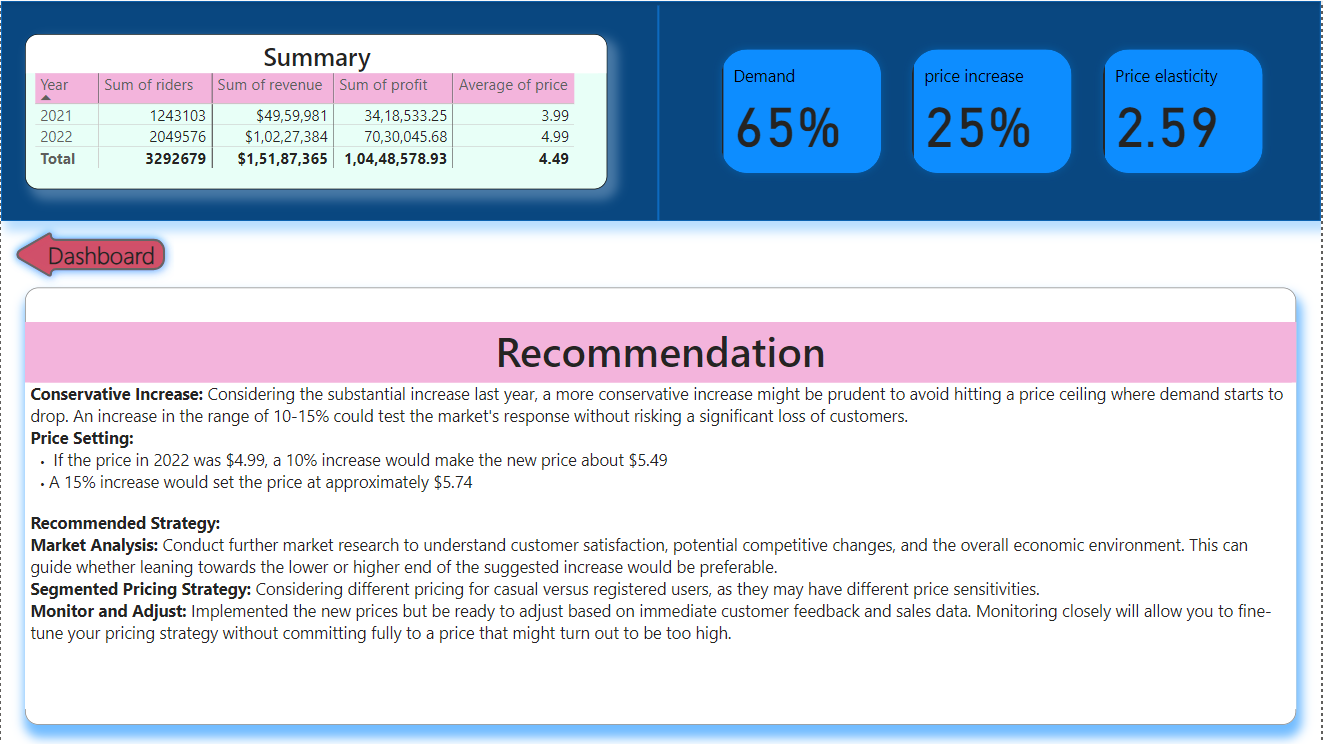

This screenshot's page, from the dashboard's own definition file:
{"tool":"powerbi","page":{"name":"Recommendation","canvas":[1280,720],"ordinal":1},"visuals":[{"type":"shape","box":[0,0,1279.8,213.6],"z":0},{"type":"pivotTable","title":"Summary","fields":{"Rows":["Query1.dteday.Variation.Date Hierarchy.Year"],"Values":["Sum(Query1.riders)","Sum(Query1.revenue)","Sum(Query1.profit)","Avg(Query1.price)"]},"box":[22.7,32.4,564.7,150.5],"z":1000},{"type":"cardVisual","fields":{"Data":["Query1.Demand","Query1.price increase","Query1.Price elasticity"]},"box":[682.8,30.7,559.8,152.1],"z":2000},{"type":"shape","box":[634.2,4.9,6.5,208.7],"z":3000},{"type":"shape","box":[22.7,278.3,1232.9,423.9],"z":4000},{"type":"textbox","title":"Recommendation","box":[22.7,310.7,1232.9,375.4],"z":5000},{"type":"pageNavigator","box":[0,213.6,168.3,64.7],"z":6000}]}

Visuals, with their boxes in screenshot pixels (x1, y1, x2, y2), scaled from the page's 1280x720 canvas onto the 1323x744 screenshot:
shape: [0,0,1322,221]
"Summary" pivotTable: [23,33,607,189]
cardVisual - Query1.Demand x Query1.price increase: [706,32,1284,189]
shape: [656,5,662,221]
shape: [23,288,1298,726]
"Recommendation" textbox: [23,321,1298,709]
pageNavigator: [0,221,174,288]
